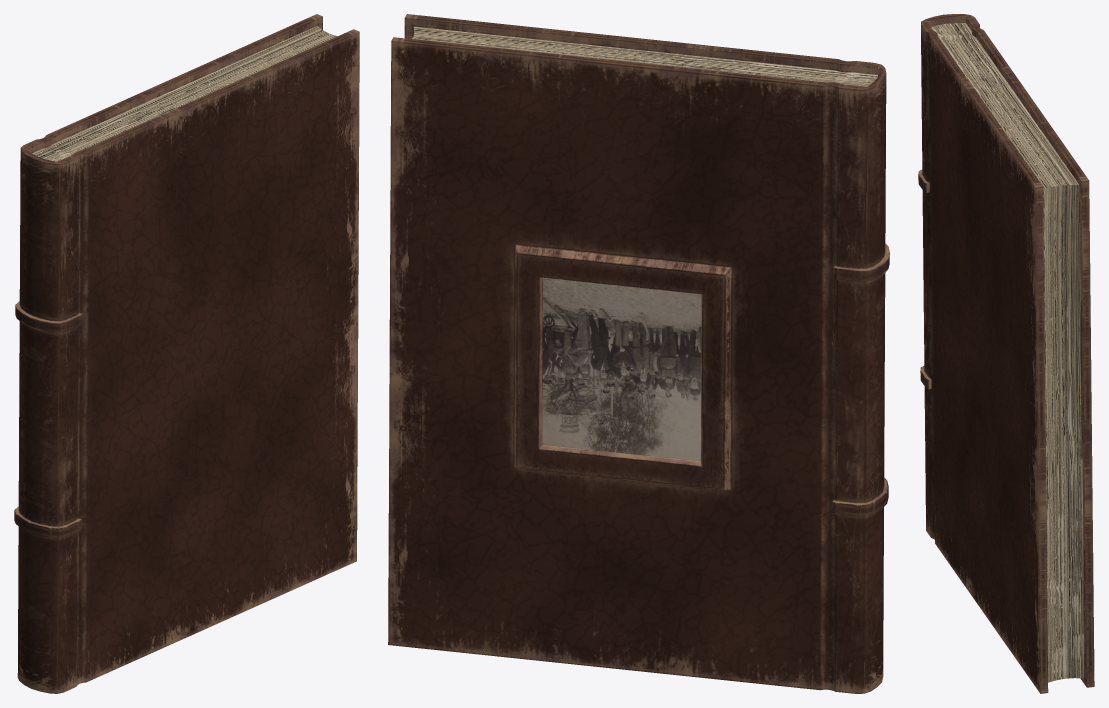
Rendered from Knyga_Full_FBX.fbx.
The picture shows the model from 3 angles, left to right: view 1: azimuth 30°, elevation 25°; view 2: azimuth 150°, elevation 25°; view 3: azimuth 270°, elevation 25°; orthographic projection. The views are drawn at different scales.
Visible parts, largest first — view 1: polySurface4, polySurface3; view 2: polySurface3, polySurface4; view 3: polySurface4, polySurface3.
Boxes of the visible parts, x1=… form: polySurface4: x1=29, y1=29, x2=359, y2=693; polySurface3: x1=14, y1=14, x2=328, y2=688; polySurface3: x1=388, y1=36, x2=888, y2=693; polySurface4: x1=404, y1=14, x2=889, y2=681; polySurface4: x1=918, y1=14, x2=1063, y2=693; polySurface3: x1=944, y1=14, x2=1094, y2=687.
Size of the model in its own units: 38.29 by 51.46 by 16.18.
Materials: 1 (1 with a texture image).
